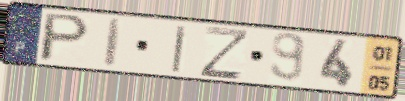4: (317, 37, 356, 90)
9: (269, 31, 308, 87)
I: (102, 16, 126, 70), (169, 23, 189, 75)
P: (36, 11, 93, 63)
Z: (198, 24, 253, 82)
